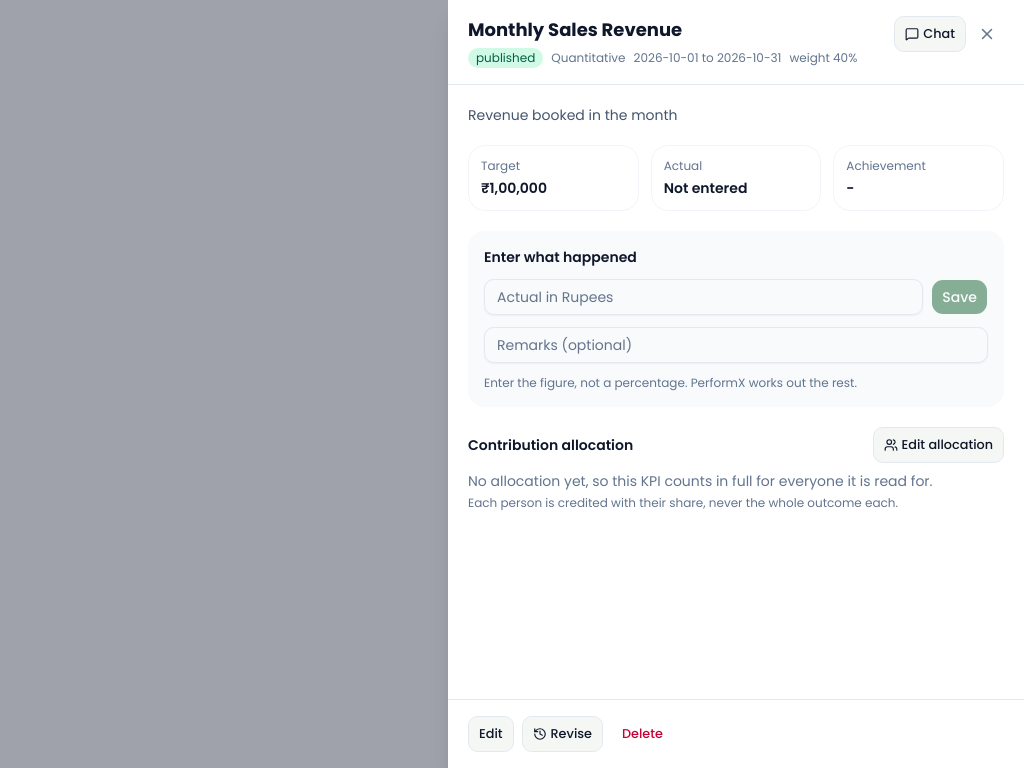
KpiDetailSheet allocation › shows the server's message when the allocation is refused
Click the button "Edit allocation". click: [938, 445]
box: [873,427,1004,463]
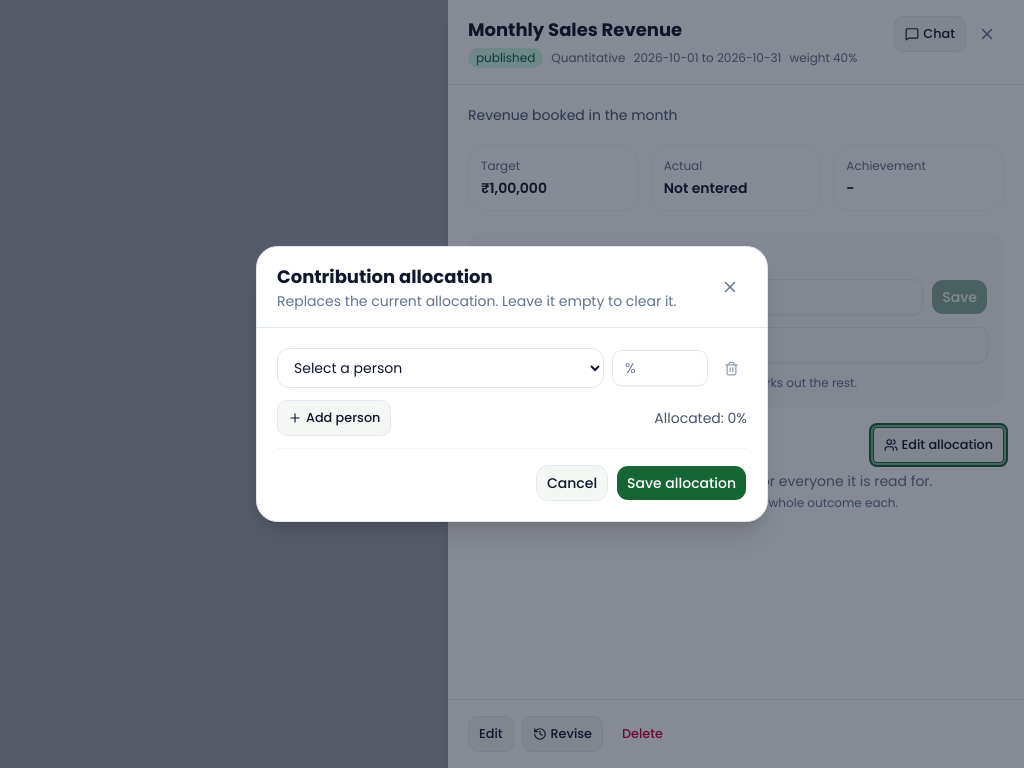
Select "Asha Employee" in the dropdown named "Person 1". click: [440, 368]
box: [277,348,604,388]
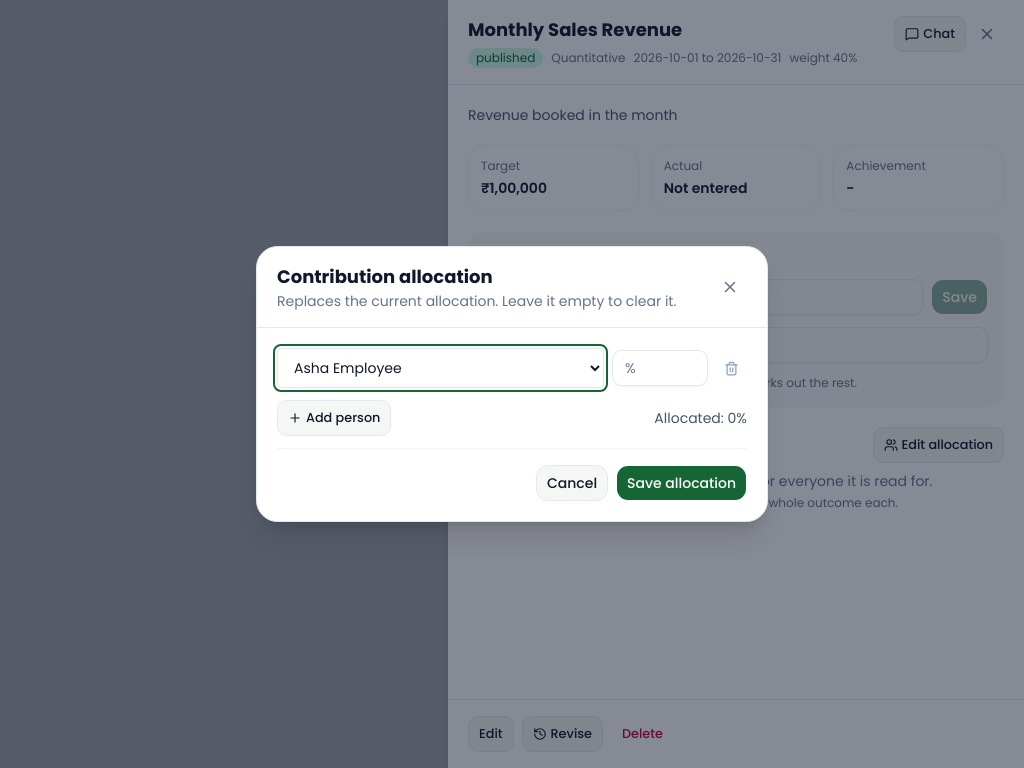
Type "50" into the number field named "Share 1". click: [660, 368]
box: [612,350,708,386]
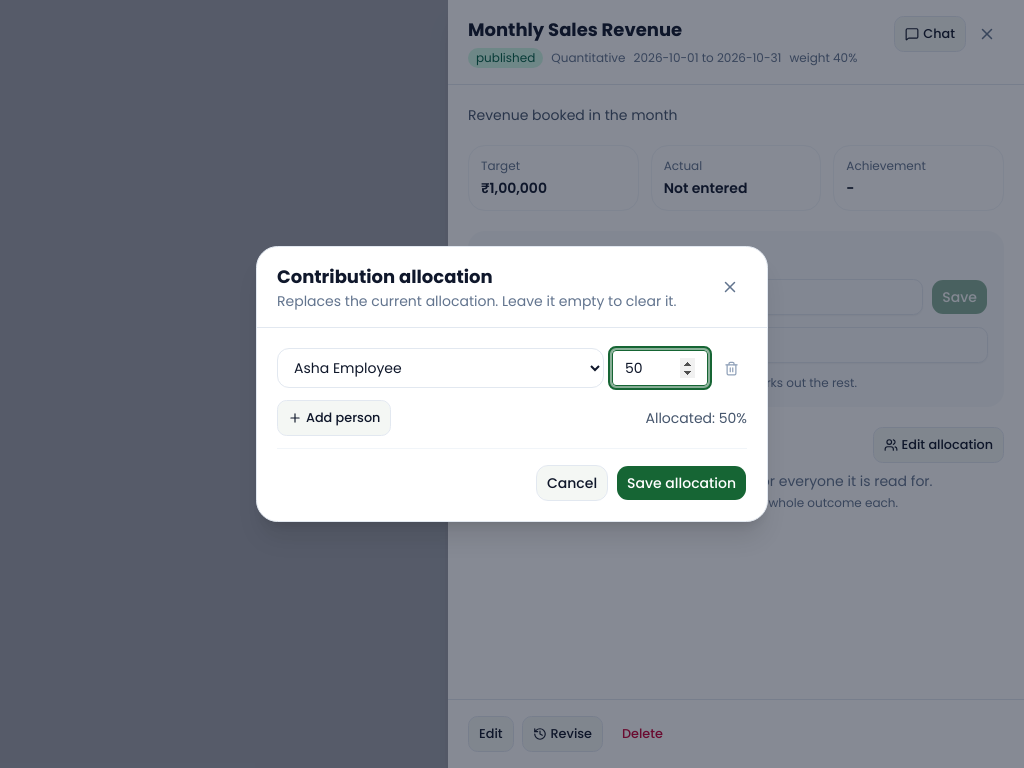
Click the button "Save allocation". click: [682, 483]
box: [616,465,747,501]
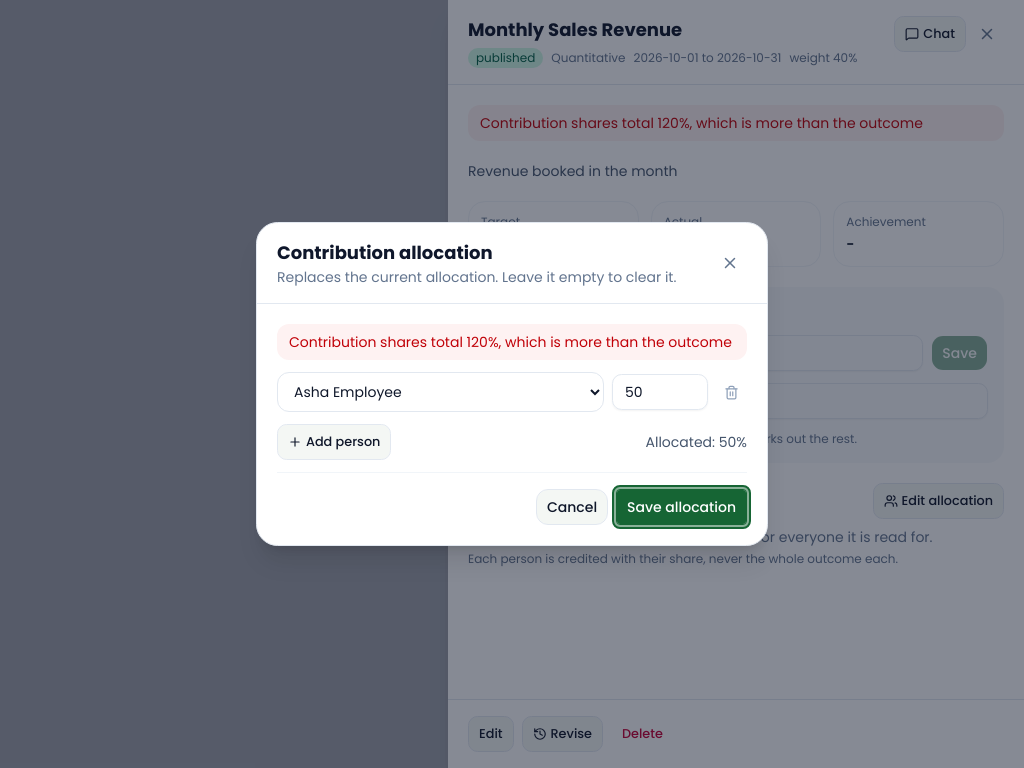
expect the message shows "more than the outcome": met, box [289,332,732,352]
